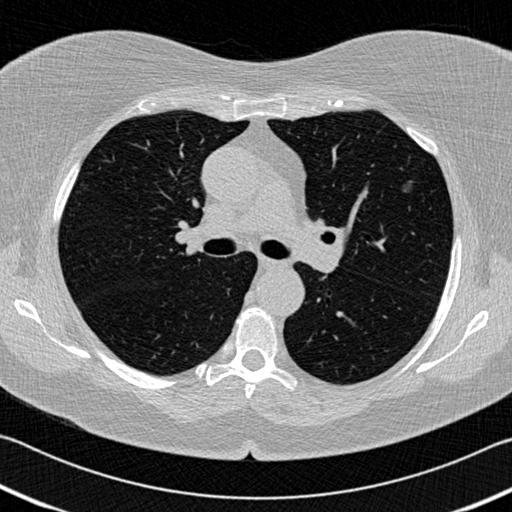nodule: (401, 181, 414, 194)
